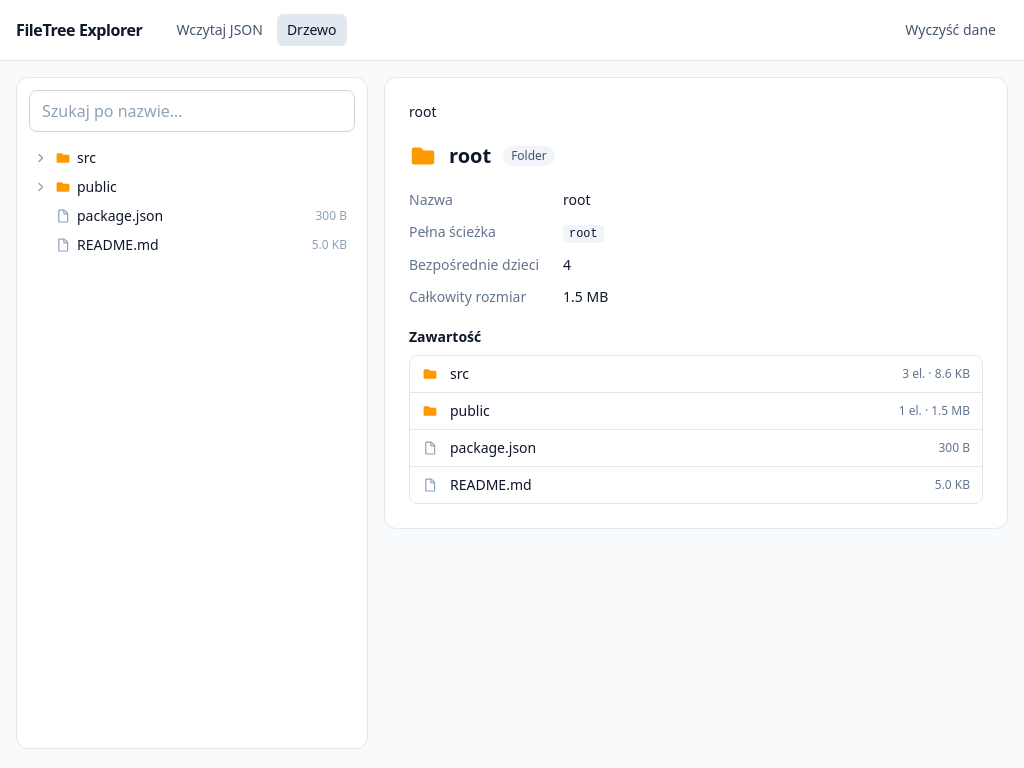
tree view › expands and collapses folders without navigating
The image size is (1024, 768).
Expected: the link "index.ts" is not shown
What coordinates should you click on to do the following:
click the button named "Rozwiń src"
I would click on:
 (41, 158)
Its box is [29,146,53,170].
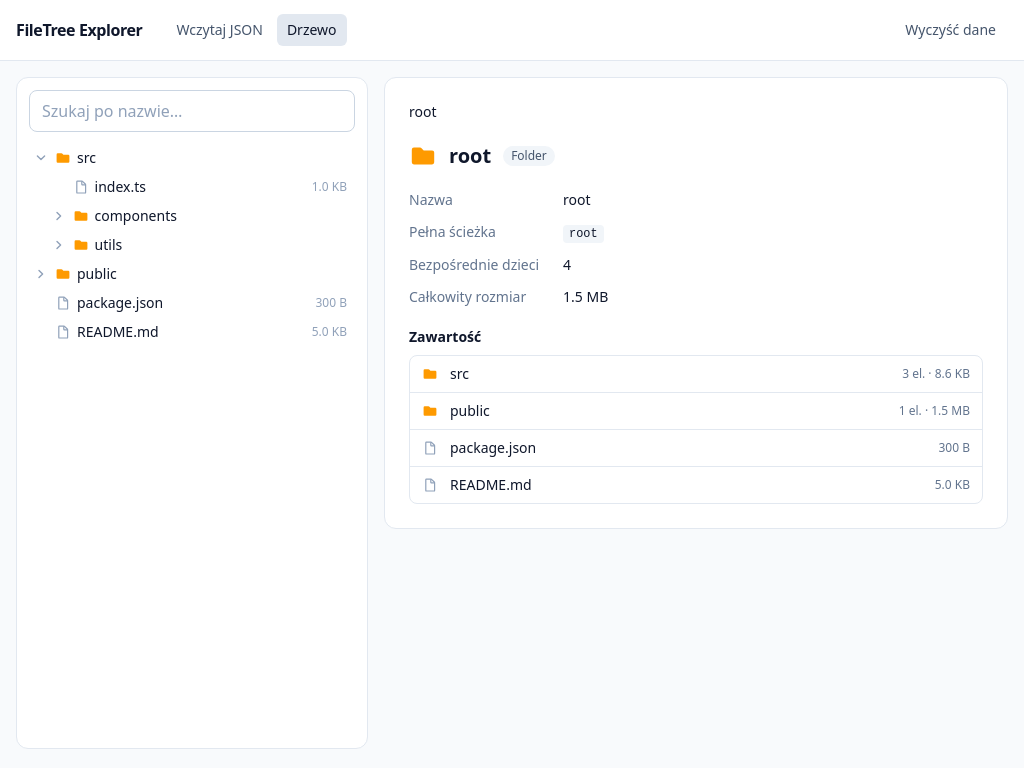
Expected: the button named "Zwiń src" is expanded
Expected: the link "index.ts 1.0 KB" is shown, [73,177,347,197]
What coordinates should you click on to do the following:
click the button named "Zwiń src"
I would click on:
 (41, 158)
Its box is [29,146,53,170].
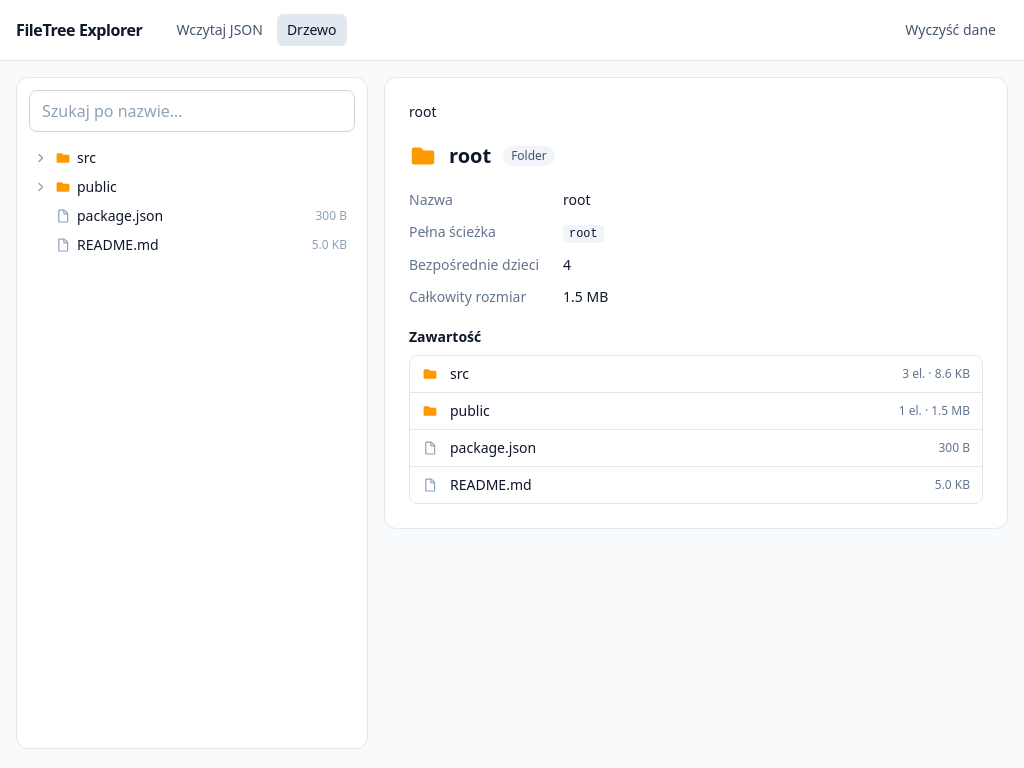
Expected: the link "index.ts" is gone
